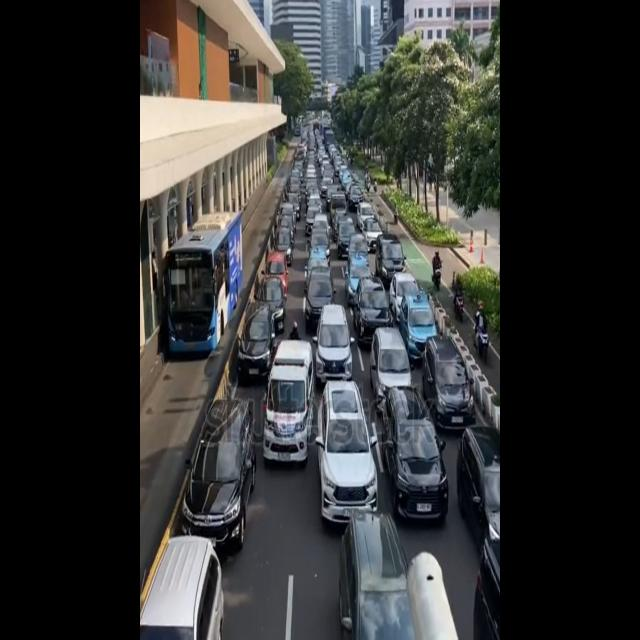Ambulance: (262, 326, 315, 468)
